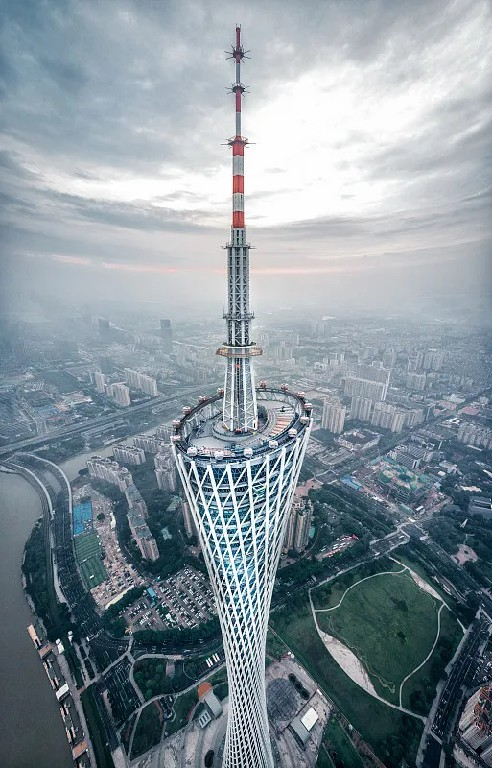Canton: (168, 26, 311, 768)
